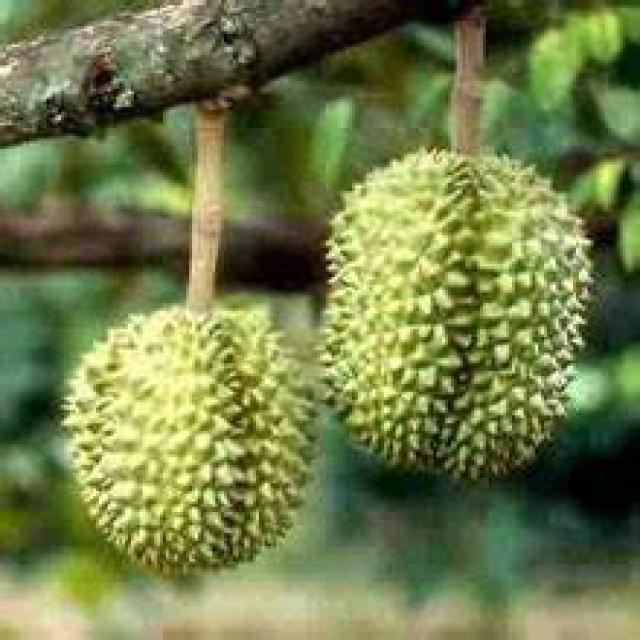immature: (322, 145, 592, 478), (63, 304, 318, 578)
